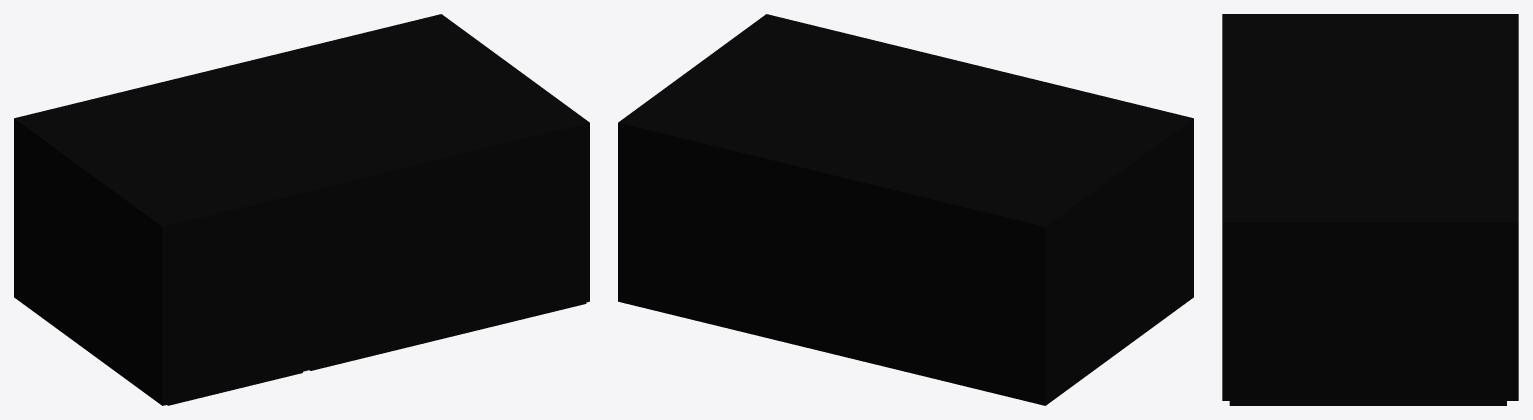
Rendered from FridgeA.fbx.
3 renders of one model, left to right at view 1: azimuth 30°, elevation 25°; view 2: azimuth 150°, elevation 25°; view 3: azimuth 270°, elevation 25°, orthographic.
Parts seen in each view (by area): view 1: node_id5; view 2: node_id5; view 3: node_id5.
Boxes of the visible parts, x1,y1,x2,y2 form: node_id5: (14, 14, 589, 405); node_id5: (618, 14, 1193, 405); node_id5: (1222, 14, 1518, 405).
Size of the model in its own units: 0.512 by 0.2105 by 0.3079.
1 material, 1 textured.
